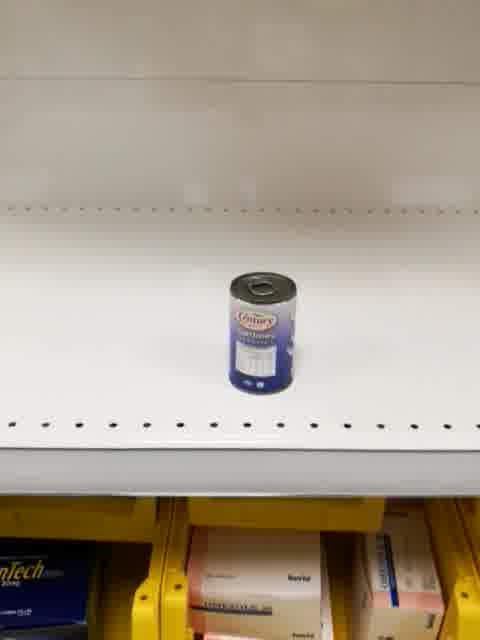sardine: (228, 271, 297, 395)
